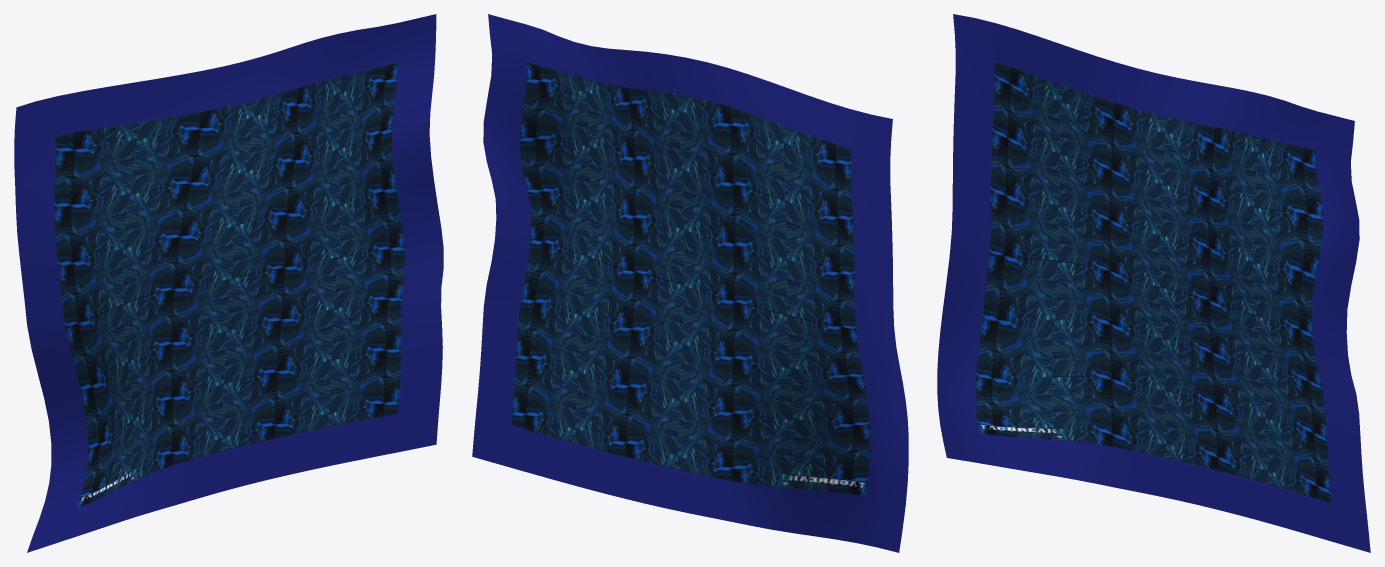
File: abyss.glb
3 renders of one model, left to right at view 1: azimuth 30°, elevation 25°; view 2: azimuth 150°, elevation 25°; view 3: azimuth 330°, elevation 25°, orthographic.
Parts seen in each view (by area): view 1: Plane; view 2: Plane; view 3: Plane.
Boxes of the visible parts, x1,y1,x2,y2 form: Plane: (14, 14, 443, 552); Plane: (472, 14, 908, 552); Plane: (937, 14, 1370, 552).
Size of the model in its own units: 2 by 2.01 by 0.2616.
Materials: 1 (1 with a texture image).
